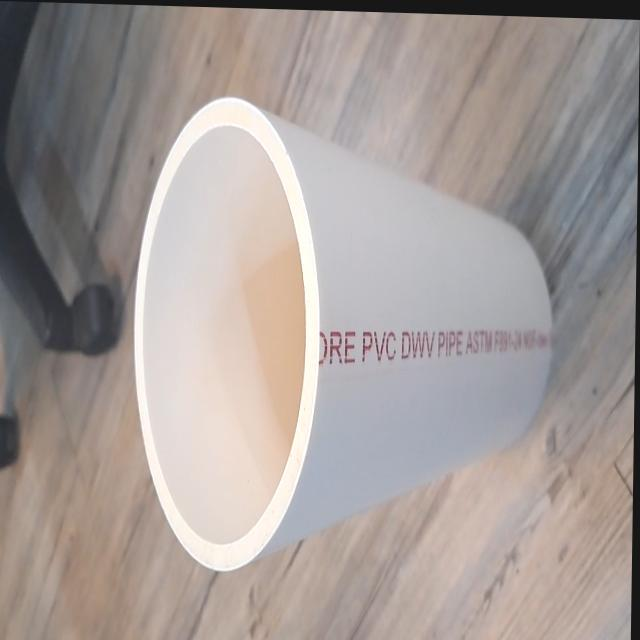CORAL: (124, 76, 565, 585)
